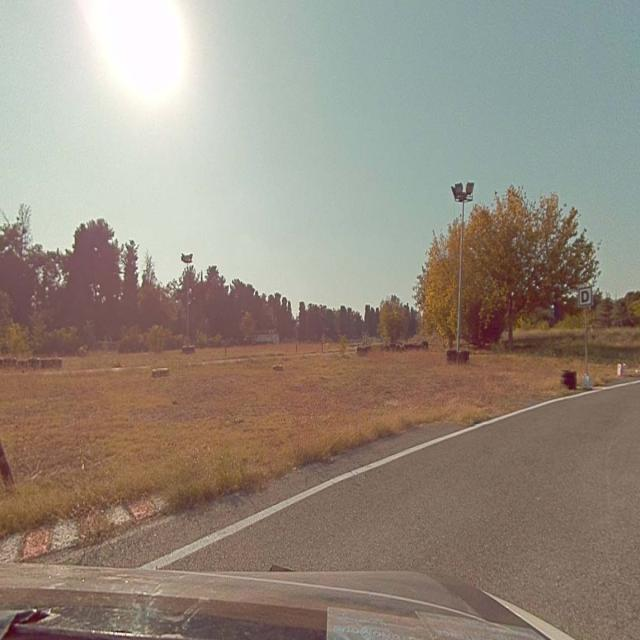durak: (578, 288, 592, 308)
